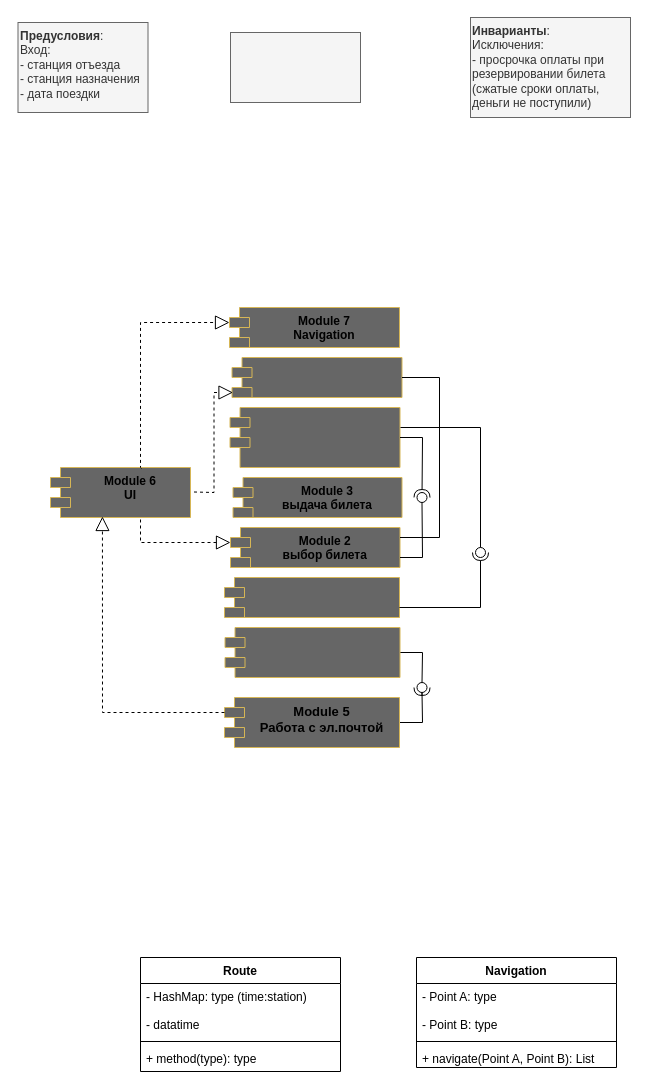
The diagram is 648 pixels wide and 1092 high, and some of its shapes have lost their labels. Each missing label, with the box of its shape:
Module 1 Проверка наличия билетов: (229, 406, 400, 468)
Module 4 Работа с БД: (224, 576, 400, 618)
Module 5 Оплата: (231, 356, 402, 398)
Module 6 Работа с PDF: (224, 626, 400, 678)
Постусловия : Выход: - электронный билет с данными: (230, 32, 360, 102)
